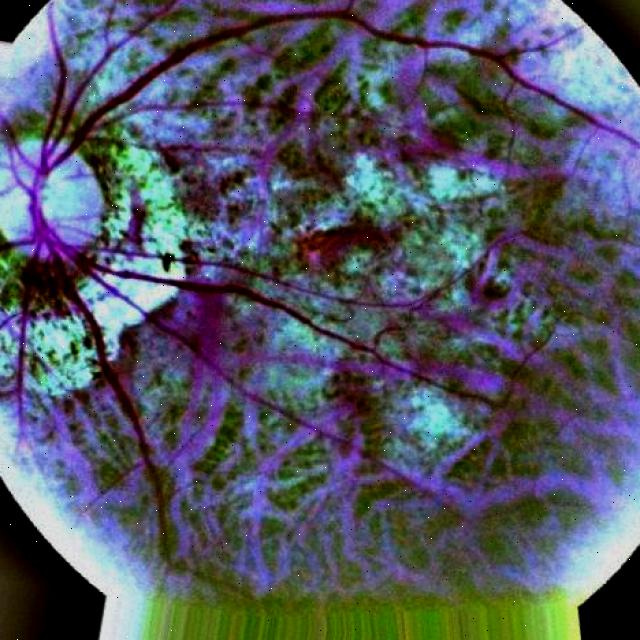Nerves: (0, 0, 640, 469)
Optic Disk: (0, 130, 103, 260)
